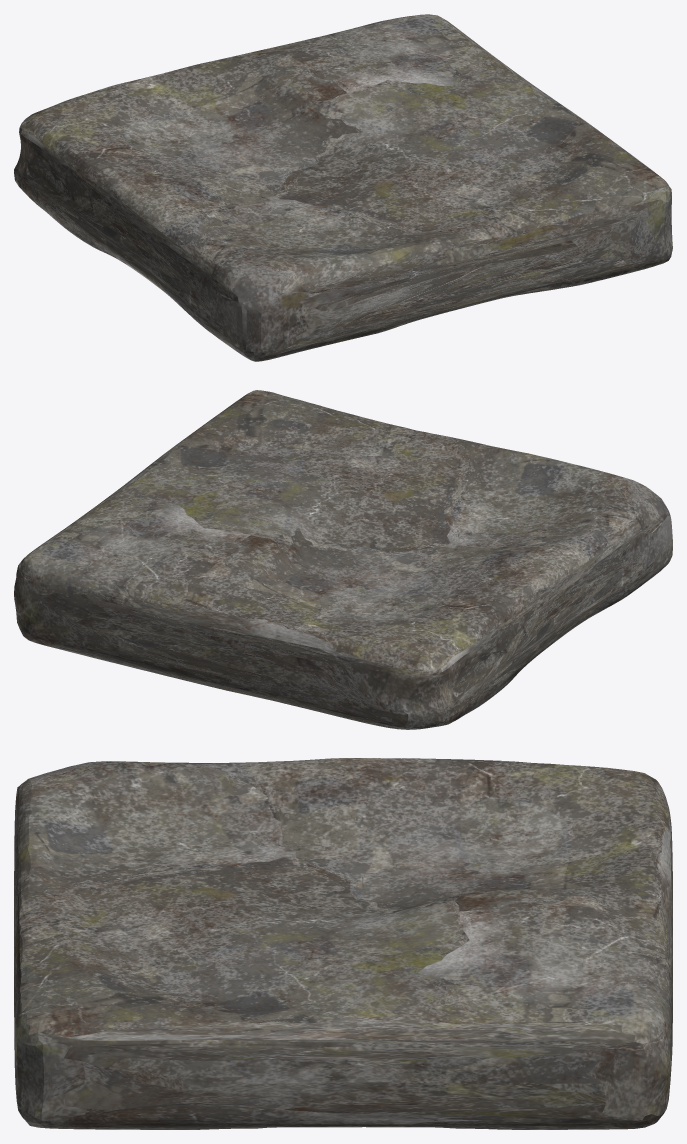
The model's file is SM_Chimney_Cap.fbx.
3 renders of one model, top to bottom at view 1: azimuth 30°, elevation 25°; view 2: azimuth 150°, elevation 25°; view 3: azimuth 270°, elevation 25°, orthographic. The views are drawn at different scales.
Parts seen in each view (by area): view 1: SM_Chimney_Cap_LOD0; view 2: SM_Chimney_Cap_LOD0; view 3: SM_Chimney_Cap_LOD0.
Part boxes in pixels (left/top/right/bottom): SM_Chimney_Cap_LOD0: left=14, top=14, right=672, bottom=361; SM_Chimney_Cap_LOD0: left=14, top=390, right=672, bottom=729; SM_Chimney_Cap_LOD0: left=14, top=758, right=672, bottom=1129.
Bounding box in the file's own units: 127 × 127 × 28.95.
